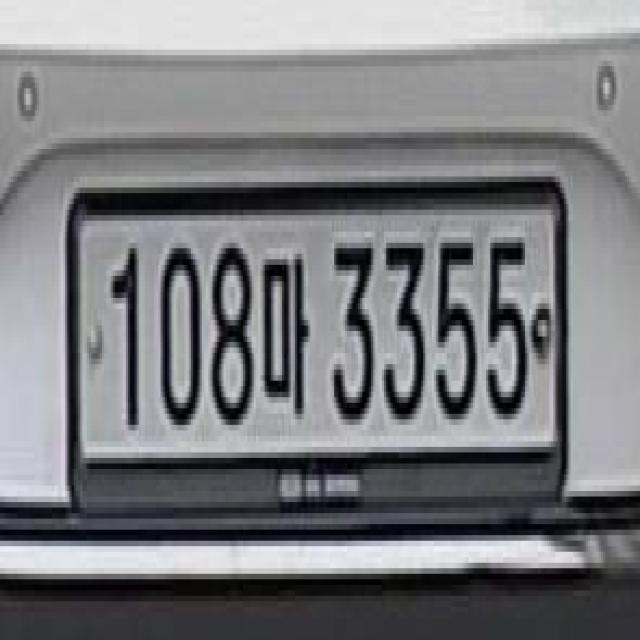illegal_plate: (67, 172, 565, 504)
